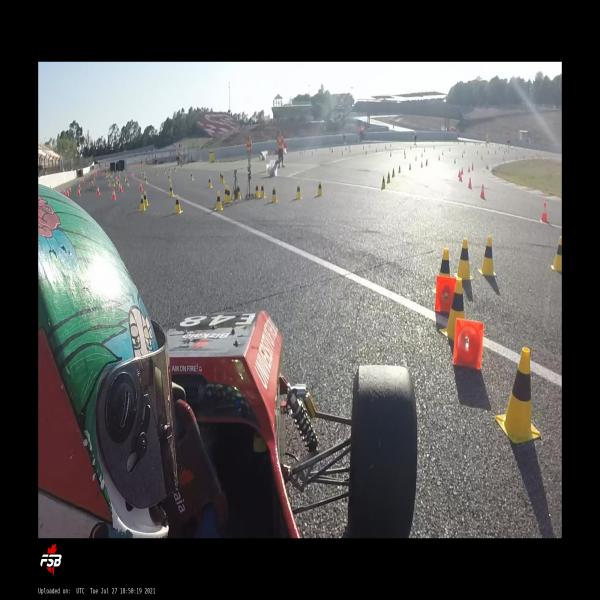orange_cone: (452, 318, 483, 370), (435, 276, 456, 311), (541, 202, 548, 223), (480, 184, 485, 198), (111, 188, 116, 199), (96, 185, 100, 195), (77, 187, 81, 196), (119, 183, 123, 192), (468, 177, 471, 188), (459, 172, 462, 182), (139, 181, 142, 191), (471, 162, 474, 171), (66, 189, 69, 196), (78, 184, 81, 190), (461, 166, 463, 175), (92, 178, 94, 186), (132, 170, 134, 178), (69, 187, 72, 192), (64, 188, 66, 195), (458, 169, 460, 176), (468, 165, 470, 172)
yellow_cone: (494, 347, 540, 444), (439, 278, 465, 340), (451, 237, 475, 280), (477, 236, 496, 276), (550, 235, 562, 271), (439, 249, 451, 275), (174, 194, 183, 214), (214, 192, 223, 210), (224, 186, 232, 203), (270, 186, 278, 202), (139, 194, 146, 212), (295, 182, 302, 200), (259, 183, 266, 199), (143, 191, 149, 207), (317, 181, 323, 197), (236, 183, 241, 200), (168, 183, 174, 197), (223, 185, 228, 201), (255, 182, 260, 198), (207, 176, 212, 188), (381, 176, 385, 189), (190, 171, 194, 181), (387, 171, 390, 183), (144, 176, 148, 184), (221, 173, 224, 183), (112, 179, 115, 187), (117, 178, 120, 186), (398, 165, 401, 173), (392, 167, 394, 178), (108, 178, 110, 186), (126, 178, 128, 186), (115, 176, 117, 184), (168, 174, 170, 182), (220, 173, 222, 181)
